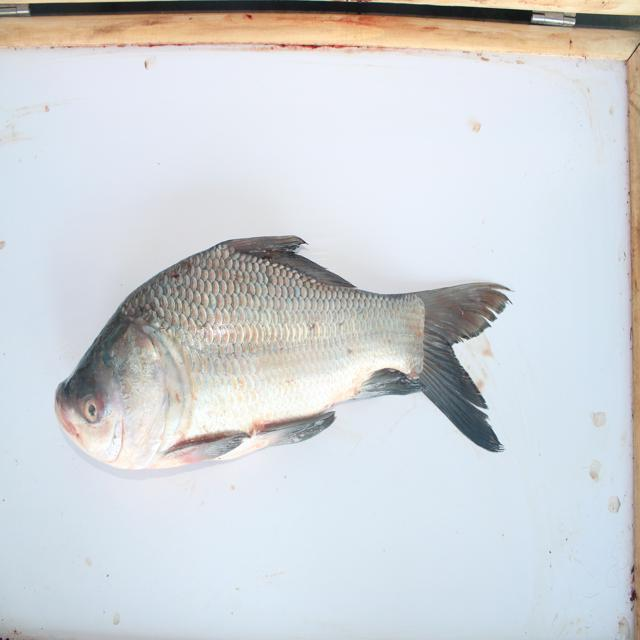Catla: (55, 219, 512, 479)
